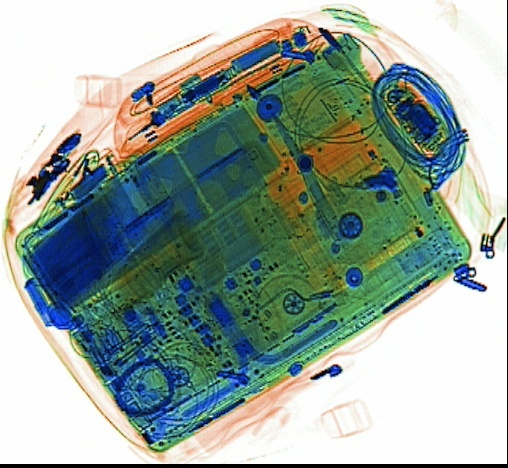powerbank: (19, 184, 134, 313)
